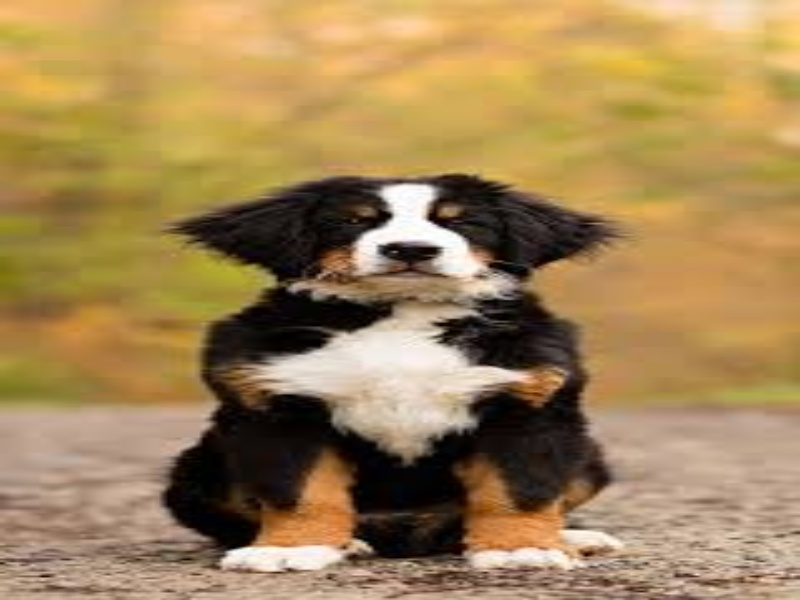dog: (161, 165, 621, 582)
